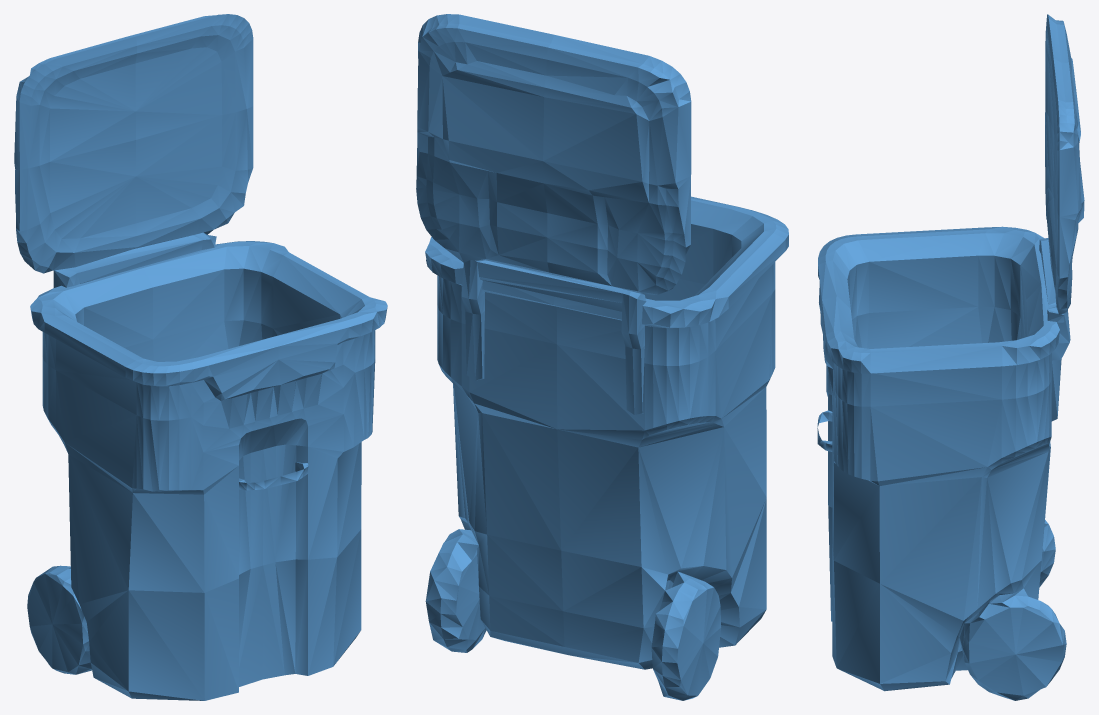
The model's file is bin.fbx.
The picture shows the model from 3 angles, left to right: view 1: azimuth 30°, elevation 25°; view 2: azimuth 150°, elevation 25°; view 3: azimuth 270°, elevation 25°; orthographic projection. The views are drawn at different scales.
Parts seen in each view (by area): view 1: bin; view 2: bin; view 3: bin.
Part boxes in pixels (left/top/right/bottom): bin: left=14, top=14, right=387, bottom=700; bin: left=416, top=14, right=788, bottom=700; bin: left=817, top=14, right=1084, bottom=700.
Bounding box in the file's own units: 359 × 736 × 302.
